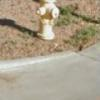a fire hydrant: (32, 0, 62, 40)
